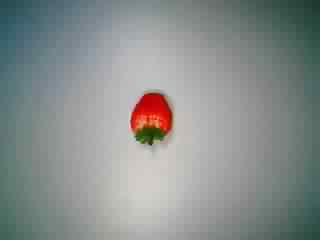strawberry: (107, 82, 180, 146)
